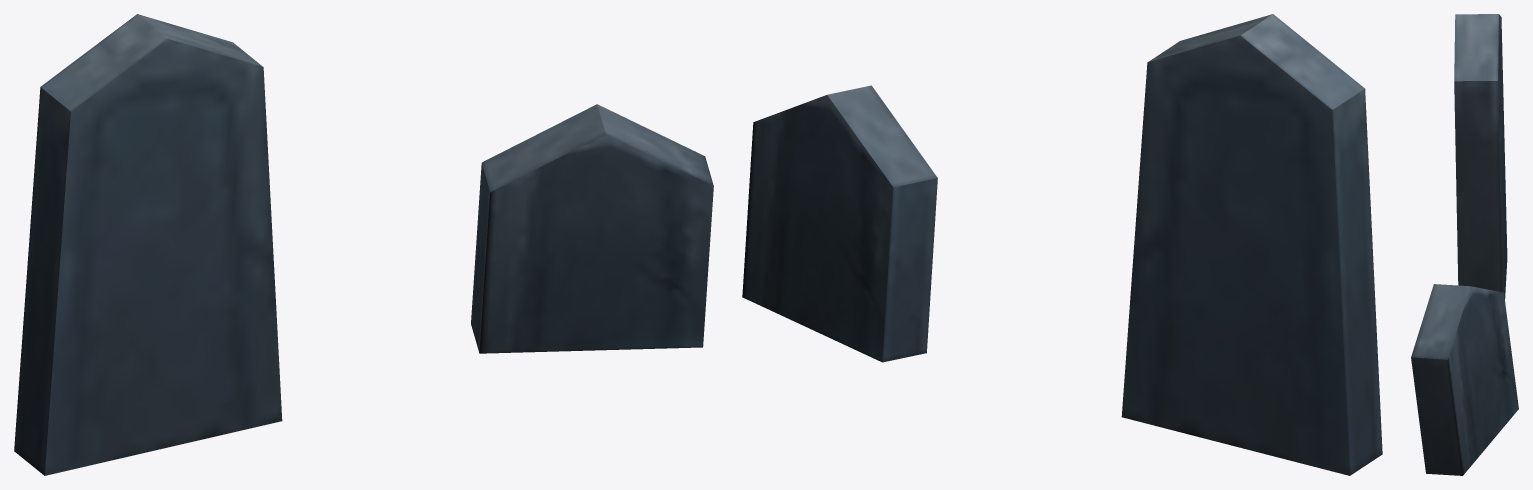
Rendered from Area_04_47.fbx.
The picture shows the model from 3 angles, left to right: view 1: azimuth 30°, elevation 25°; view 2: azimuth 150°, elevation 25°; view 3: azimuth 270°, elevation 25°; orthographic projection. The views are drawn at different scales.
Visible parts, largest first — view 1: Area_04_47; view 2: Area_04_47; view 3: Area_04_47.
Part boxes in pixels (x1,y1,x2,y2): Area_04_47: (14, 14, 713, 475); Area_04_47: (742, 14, 1382, 475); Area_04_47: (1411, 14, 1518, 475).
Bounding box in the file's own units: 689 × 426 × 145.
